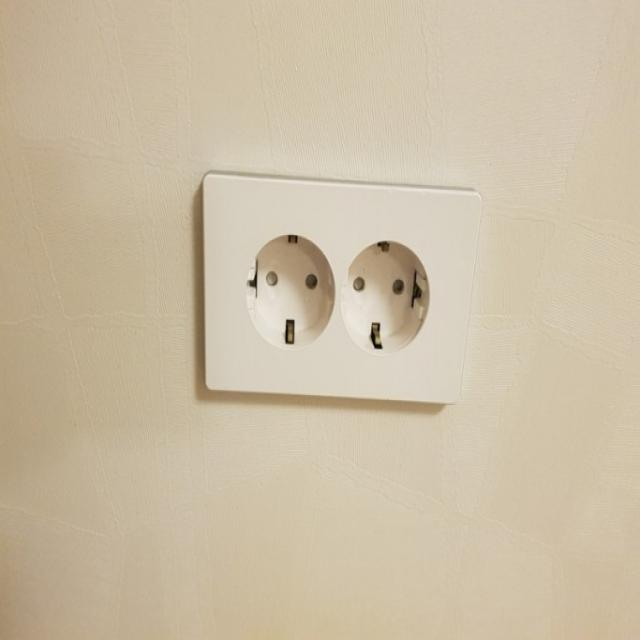typeb: (178, 150, 542, 496)
